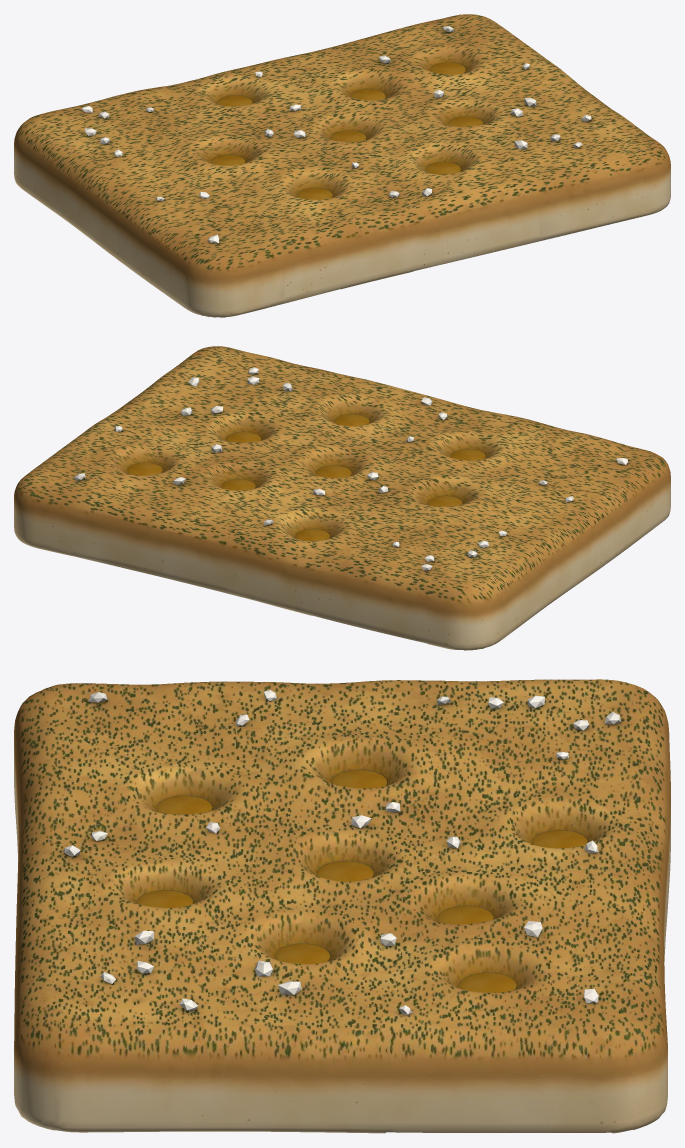
Rendered from focaccia--rosemary-dried.glb.
3 renders of one model, top to bottom at view 1: azimuth 30°, elevation 25°; view 2: azimuth 150°, elevation 25°; view 3: azimuth 270°, elevation 25°, orthographic. The views are drawn at different scales.
Visible parts, largest first — view 1: focaccia_rosemary-dried; view 2: focaccia_rosemary-dried; view 3: focaccia_rosemary-dried.
Part boxes in pixels (x1,y1,x2,y2): focaccia_rosemary-dried: (14,14,670,317); focaccia_rosemary-dried: (14,346,670,650); focaccia_rosemary-dried: (14,679,670,1133).
Bounding box in the file's own units: 1.01 × 0.1378 × 0.7441.
1 material, 1 textured.
